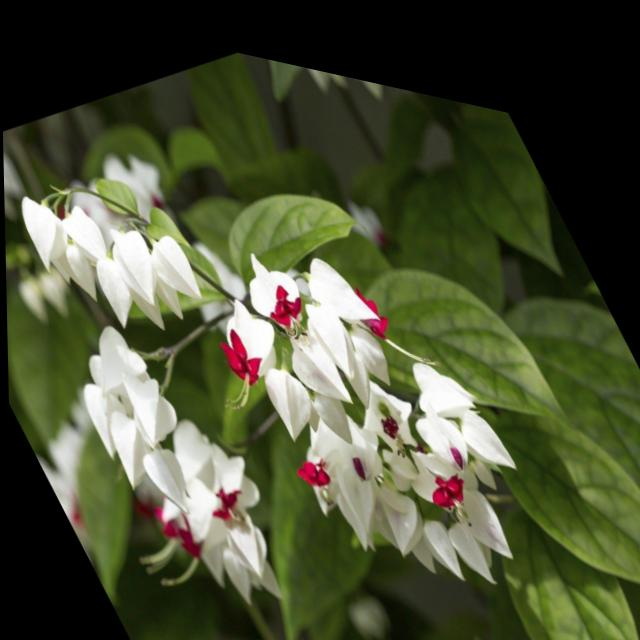Flower: (203, 184, 559, 639), (55, 287, 290, 611), (2, 97, 230, 365)
